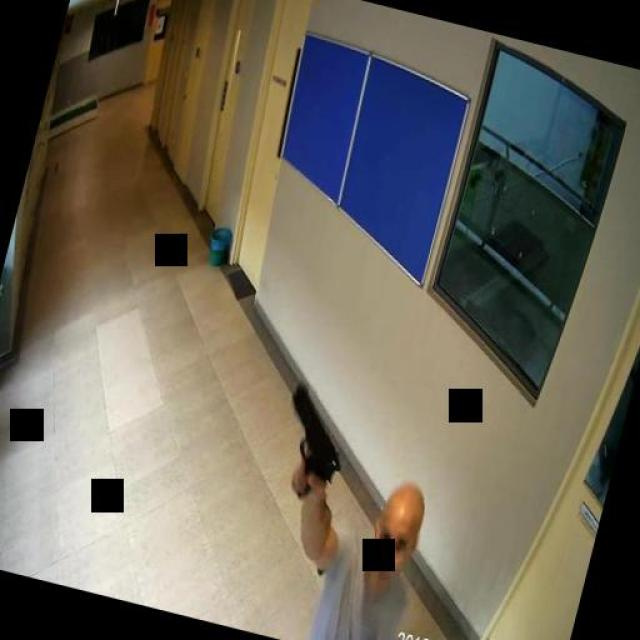gun: (267, 382, 355, 503)
